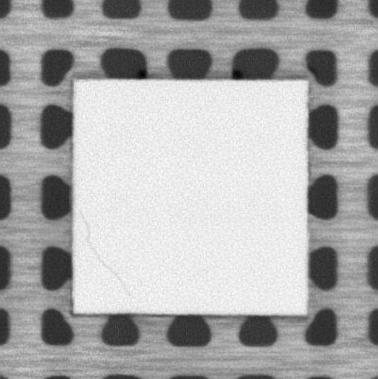DIE_CRACK: (80, 209, 133, 300)
